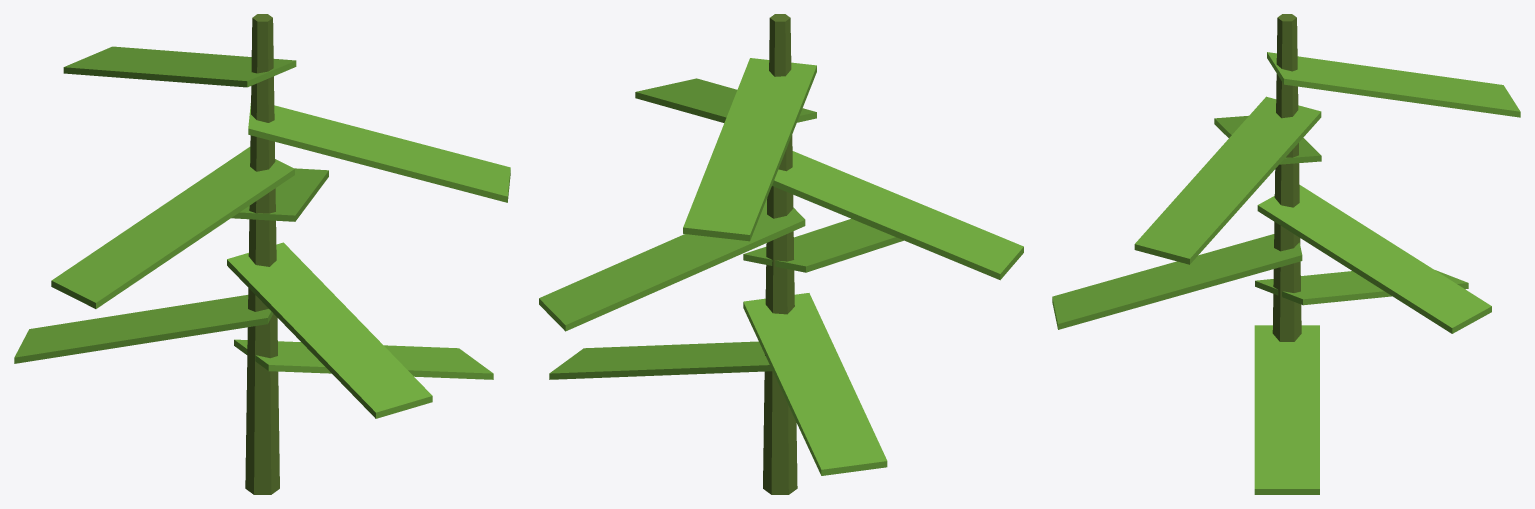
File: f04-jagung-2.glb
3 renders of one model, left to right at view 1: azimuth 30°, elevation 25°; view 2: azimuth 150°, elevation 25°; view 3: azimuth 270°, elevation 25°, orthographic. The views are drawn at different scales.
Parts seen in each view (by area): view 1: EX_kebun:daun-jagung, EX_kebun:batang.003; view 2: EX_kebun:daun-jagung, EX_kebun:batang.003; view 3: EX_kebun:daun-jagung, EX_kebun:batang.003.
Part boxes in pixels (x1=…): EX_kebun:daun-jagung: x1=14, y1=46, x2=510, y2=418; EX_kebun:batang.003: x1=245, y1=14, x2=279, y2=494; EX_kebun:daun-jagung: x1=539, y1=58, x2=1023, y2=475; EX_kebun:batang.003: x1=763, y1=14, x2=797, y2=494; EX_kebun:daun-jagung: x1=1052, y1=52, x2=1520, y2=494; EX_kebun:batang.003: x1=1272, y1=14, x2=1301, y2=341.
Bounding box in the file's own units: 0.8589 × 0.9 × 0.8595.
